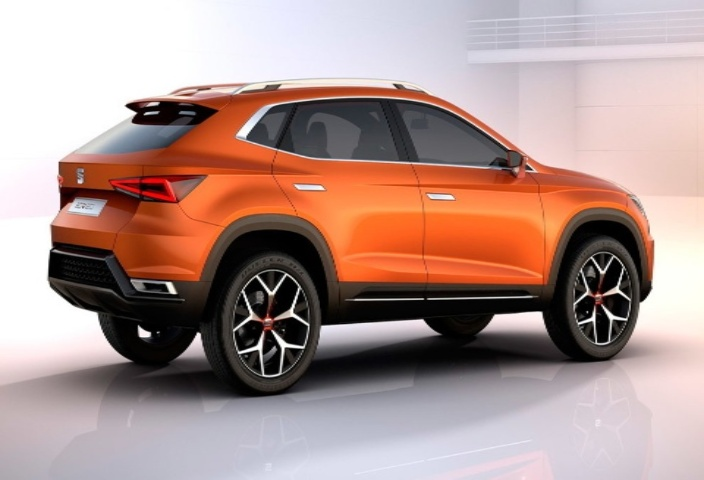camper: (42, 69, 668, 391)
